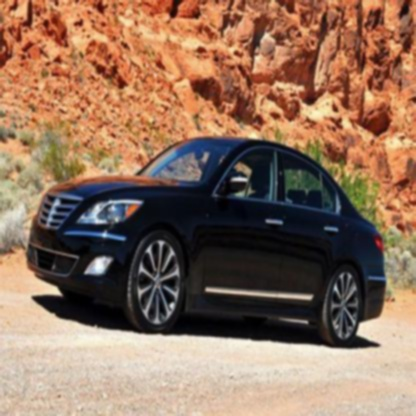Vehicle: (25, 137, 387, 347)
